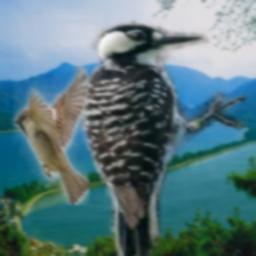Sparrow: (14, 65, 90, 205)
Woodpecker: (73, 21, 252, 256)
